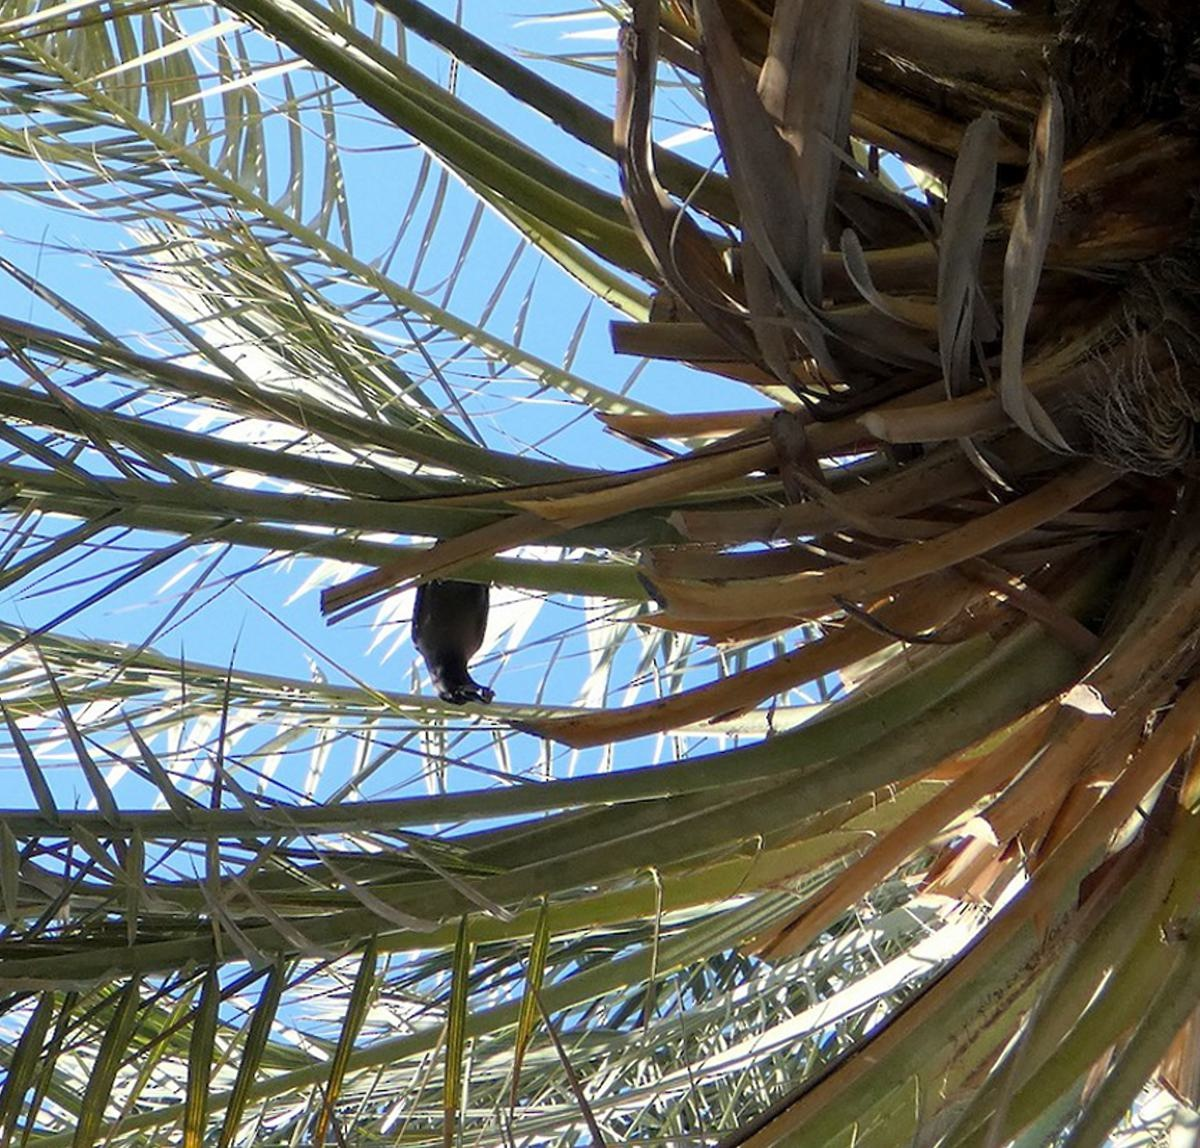crow: (395, 518, 507, 714)
